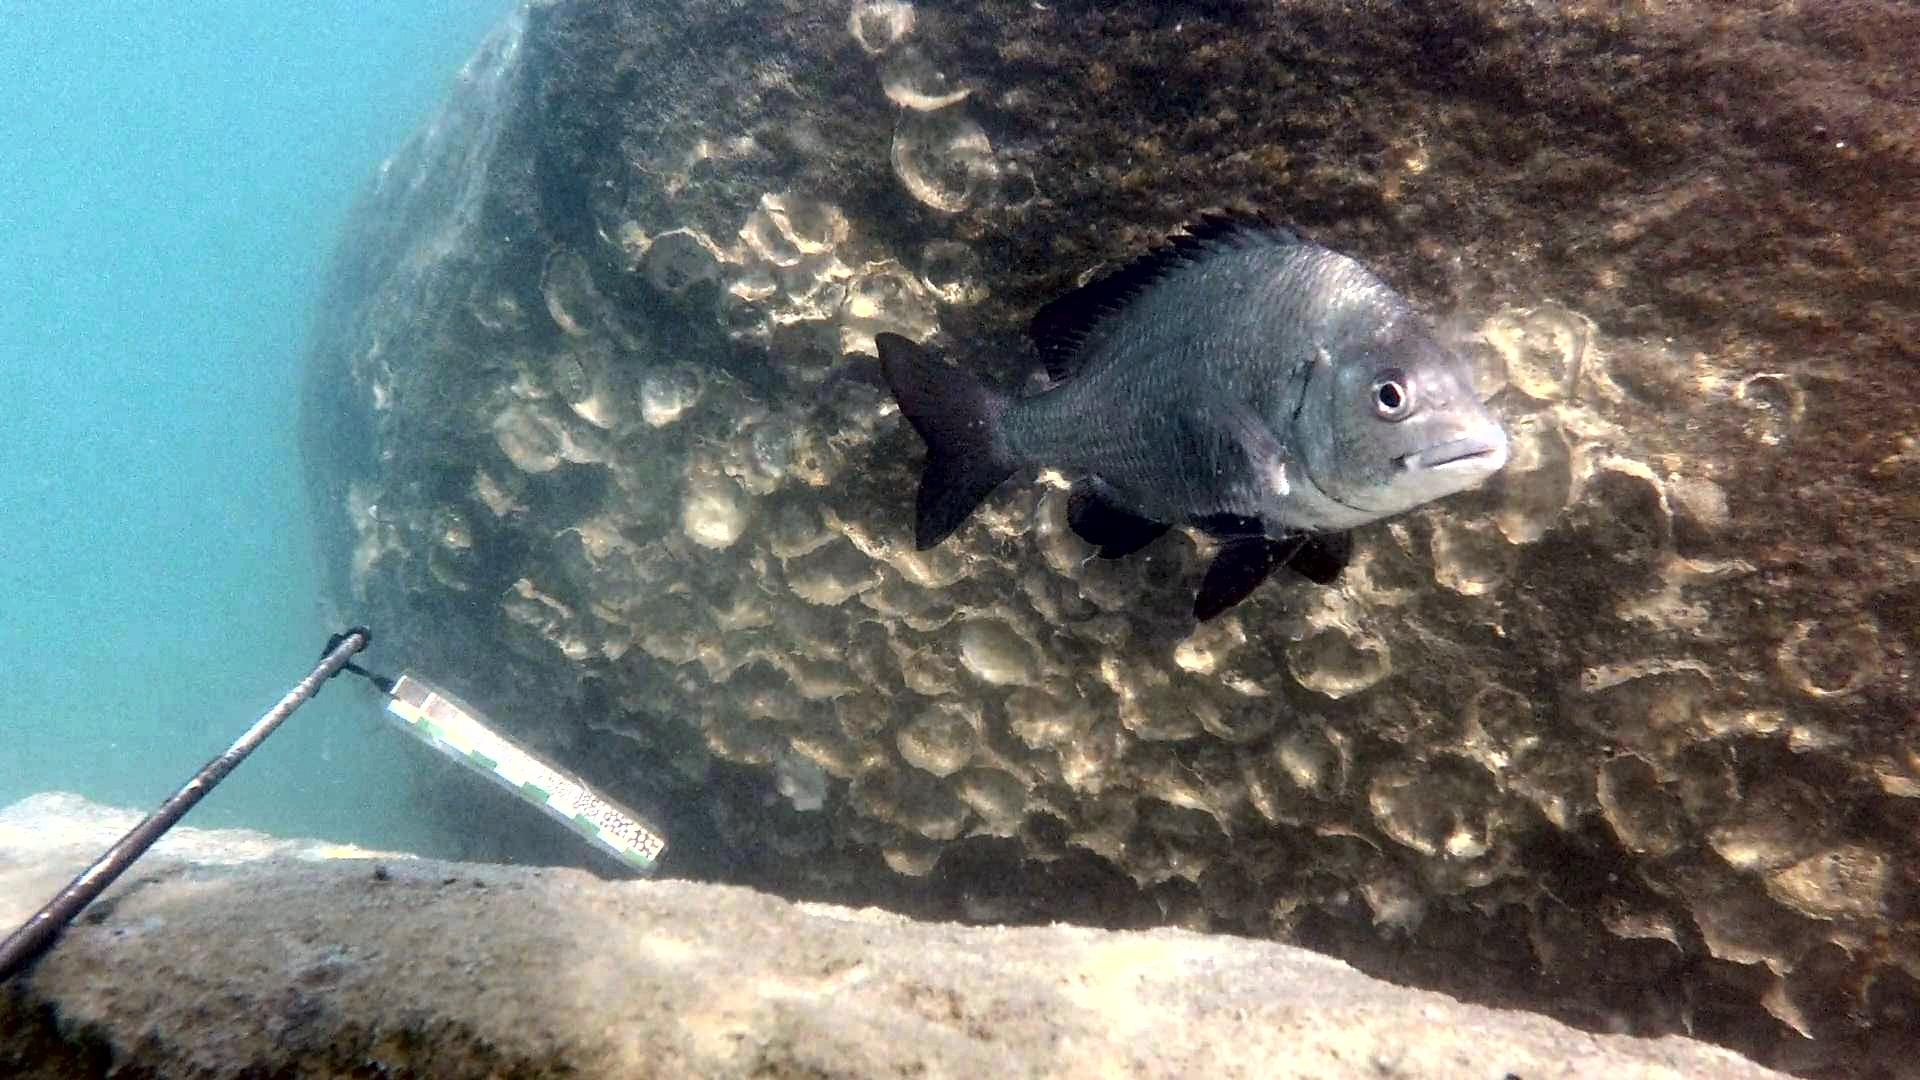acanthopagrus palmaris: (873, 198, 1518, 629)
